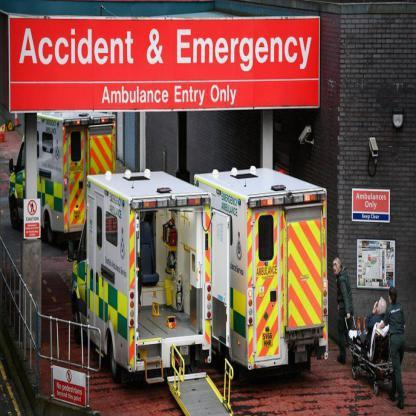Ambulance - v1 Ambulance last generate: (192, 164, 329, 392), (75, 168, 216, 365), (9, 106, 116, 231)
